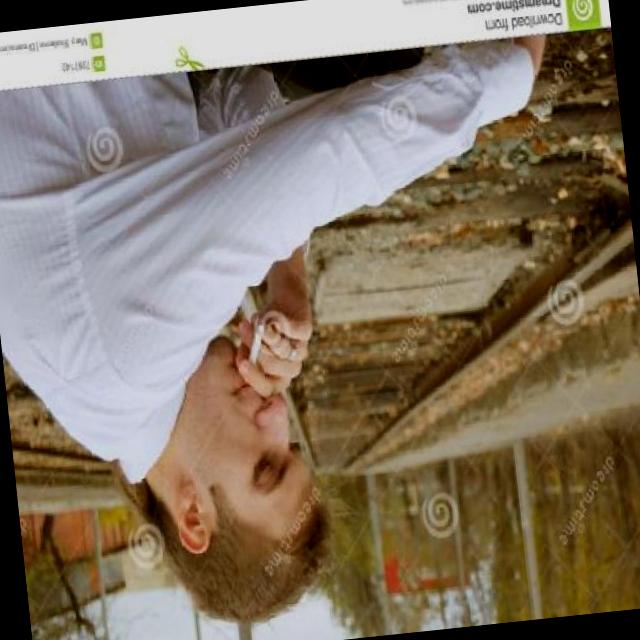cigarette: (242, 319, 270, 367)
